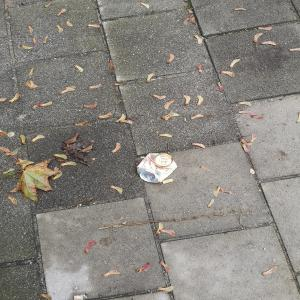Can: (135, 150, 181, 187)
